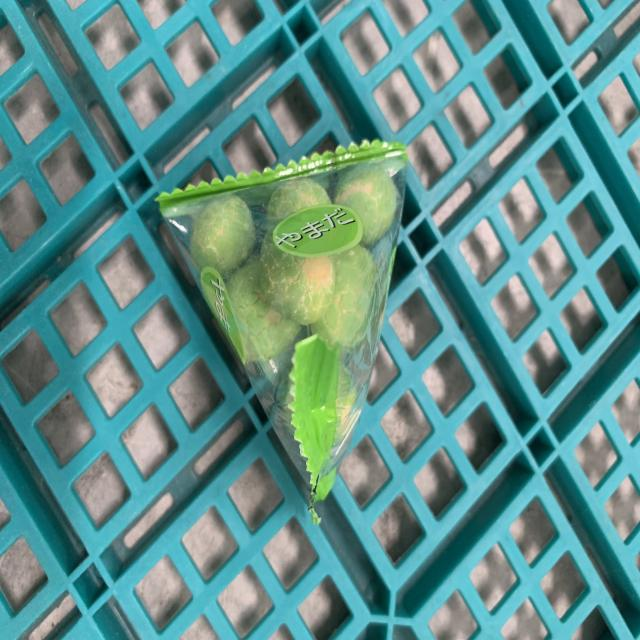object_name: (155, 151, 406, 512)
